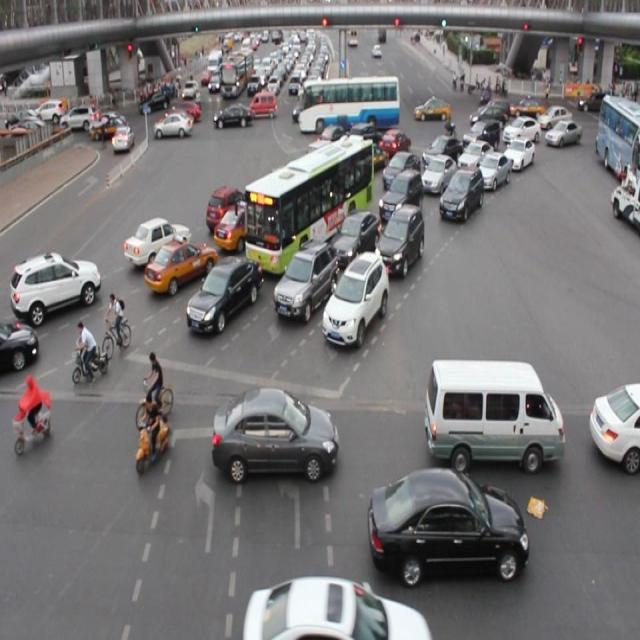car: (368, 465, 526, 583), (213, 385, 337, 483), (242, 576, 429, 640), (321, 250, 387, 346), (12, 250, 101, 320), (186, 254, 261, 334), (273, 239, 337, 319), (588, 381, 640, 469), (146, 236, 217, 294), (123, 217, 190, 268), (377, 202, 423, 272), (214, 202, 278, 252), (328, 210, 380, 268), (269, 178, 327, 223), (205, 185, 258, 231), (262, 166, 315, 212), (378, 168, 423, 222), (438, 165, 482, 220), (318, 161, 368, 200), (1, 320, 38, 371), (421, 136, 463, 176), (382, 150, 420, 193), (457, 138, 493, 182), (420, 154, 455, 198), (350, 139, 389, 174), (477, 150, 509, 191), (346, 122, 384, 155), (462, 119, 498, 152), (502, 115, 538, 148), (502, 137, 534, 171), (378, 128, 410, 160), (318, 125, 351, 156)
truck: (425, 358, 562, 472), (302, 140, 352, 188)
van: (244, 140, 374, 274)
